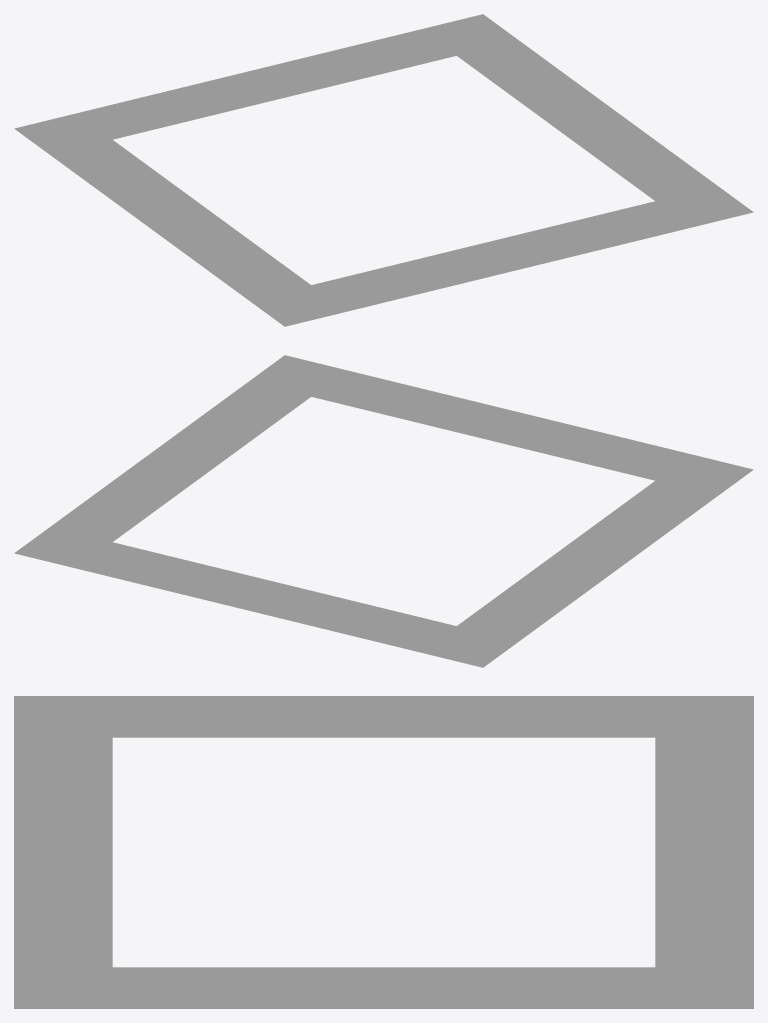
Rendered from painting_1x1.FBX.
The picture shows the model from 3 angles, top to bottom: view 1: azimuth 30°, elevation 25°; view 2: azimuth 150°, elevation 25°; view 3: azimuth 270°, elevation 25°; orthographic projection. The views are drawn at different scales.
Parts seen in each view (by area): view 1: painting_1x1; view 2: painting_1x1; view 3: painting_1x1.
Part boxes in pixels (box(x1,y1,x2,y2)): painting_1x1: box(14, 14, 753, 326); painting_1x1: box(14, 355, 753, 667); painting_1x1: box(14, 696, 753, 1008).
Size of the model in its own units: 900 by 5.68e-14 by 900.
